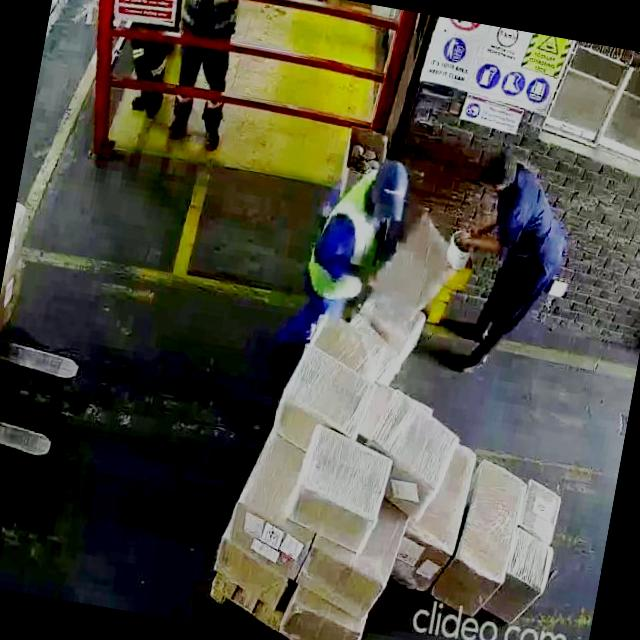Box: (287, 422, 401, 554), (444, 462, 520, 612), (272, 336, 377, 442), (368, 388, 461, 492), (223, 492, 313, 572), (297, 538, 386, 618), (208, 534, 292, 606), (494, 526, 552, 630), (514, 471, 570, 543), (282, 595, 362, 640)
